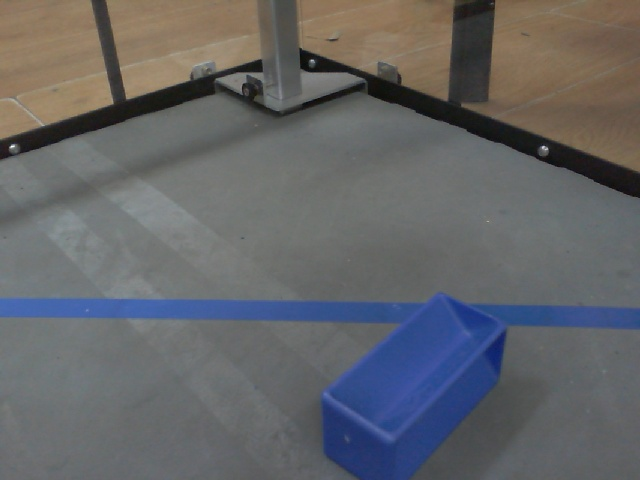BlueSample: (319, 285, 511, 480)
